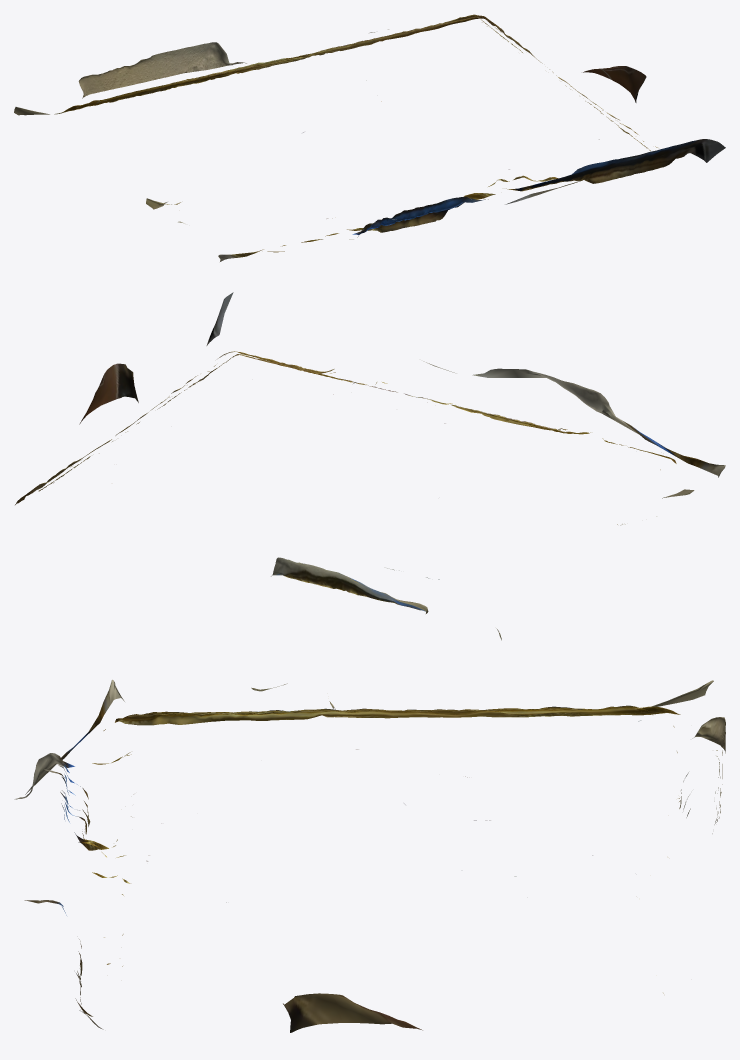
The picture shows the model from 3 angles, top to bottom: view 1: azimuth 30°, elevation 25°; view 2: azimuth 150°, elevation 25°; view 3: azimuth 270°, elevation 25°; orthographic projection. The views are drawn at different scales.
Parts seen in each view (by area): view 1: Node; view 2: Node; view 3: Node.
Boxes of the visible parts, <box> form: Node: <box>14,14,725,261</box>; Node: <box>15,292,725,640</box>; Node: <box>14,679,725,1032</box>.
Size of the model in its own units: 2.19 by 0.1121 by 1.87.
Materials: 1 (1 with a texture image).
